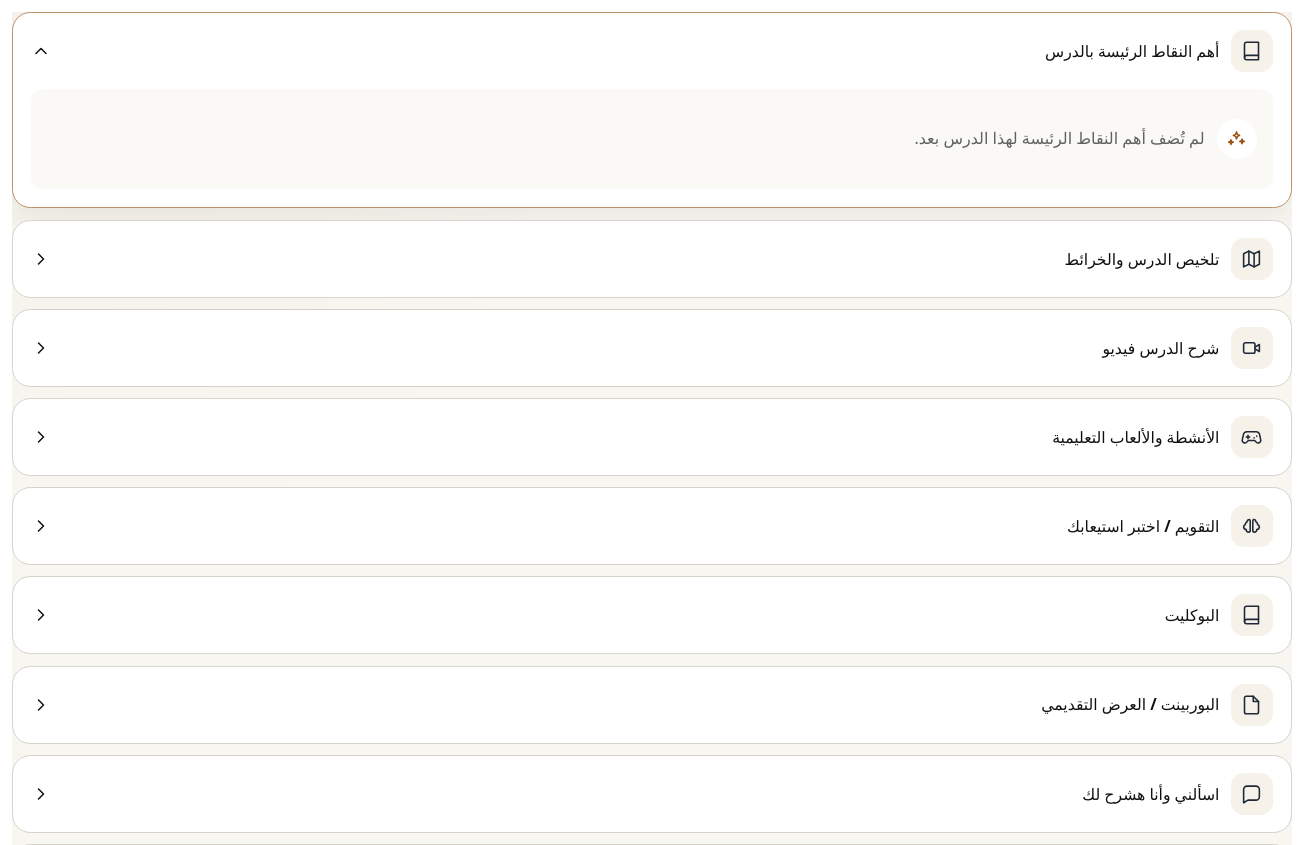
Scenario: سلوك أكورديون الدرس › يفتح قسم أهم النقاط افتراضيًا عند خلو الأقسام ويعرض الأقسام التسعة
The image size is (1304, 845).
Click the button "اسألني وأنا هشرح لك".
click(1252, 794)  # box [13,756,1291,832]
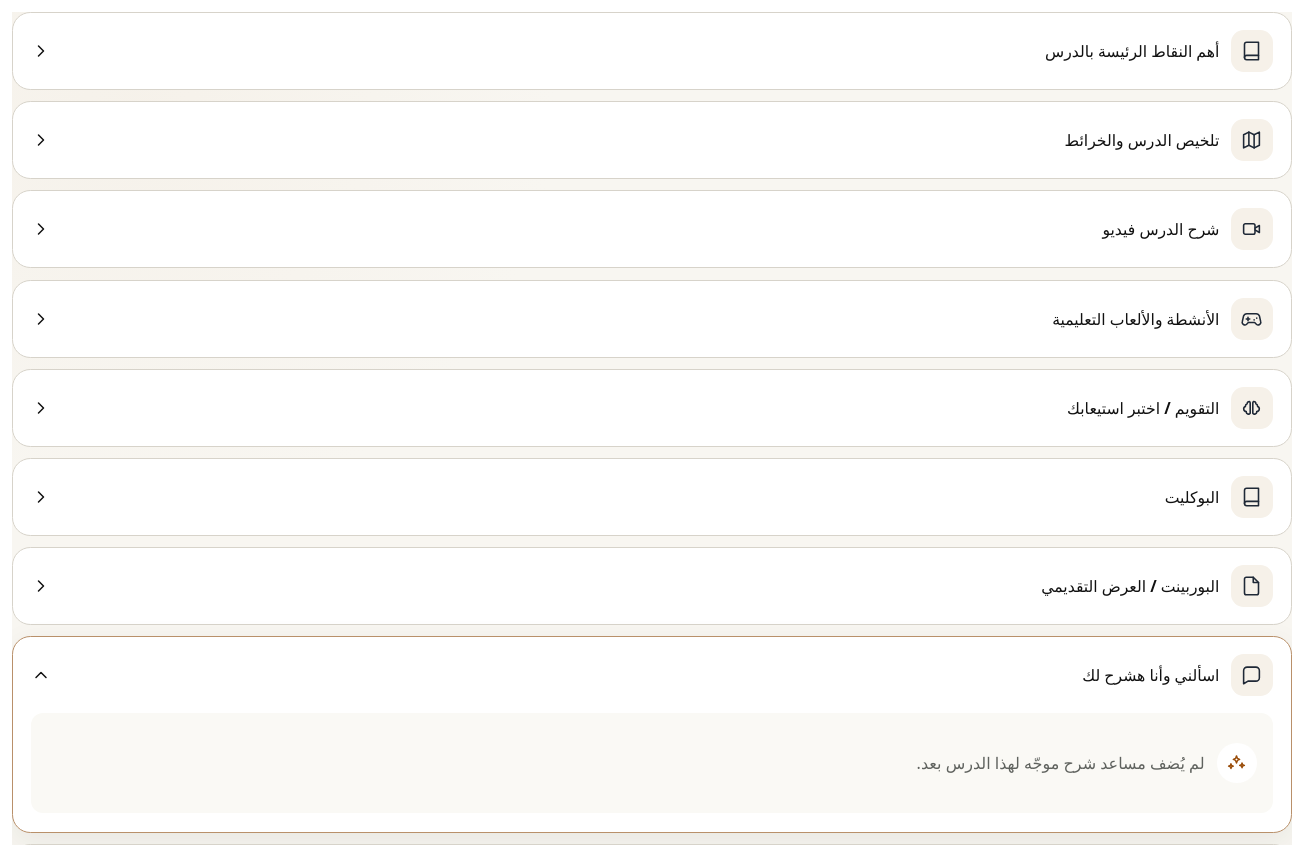
Result: the button "أهم النقاط الرئيسة بالدرس" is collapsed at [13,13,1291,89]
Result: the button "اسألني وأنا هشرح لك" is expanded at [13,637,1291,713]
Result: the text "لم يُضف مساعد شرح موجّه لهذا الدرس بعد." is shown at [917,750,1205,777]
